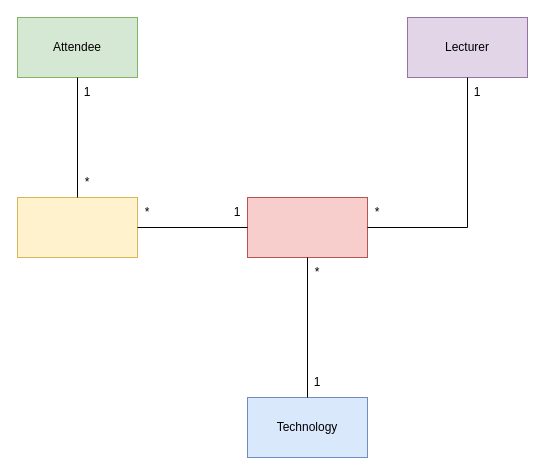
The diagram is 545 pixels wide and 475 high, and some of its shapes have lost their labels. The box of each missing label's shape, as (x1, y1, x2, y2) in pixels:
Training: (246, 196, 368, 258)
TrainingAttendee: (16, 196, 138, 258)
